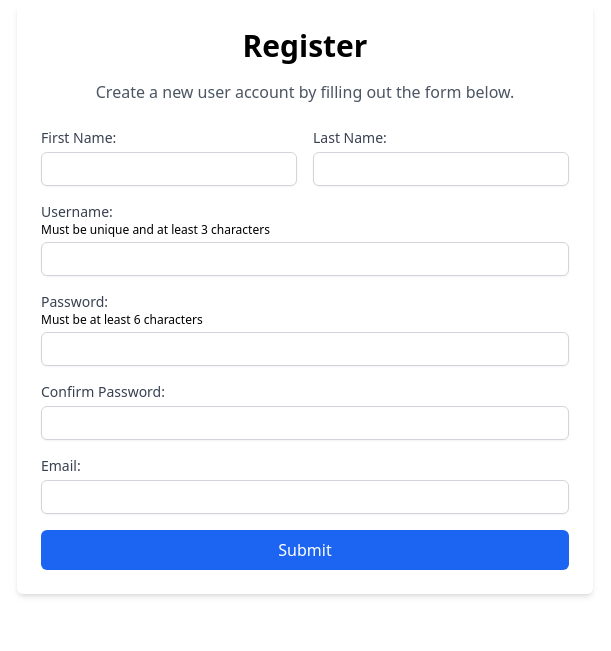
it: RegisterUserForm component › registers user when form is valid, resets form
The width and height of the screenshot is (611, 651).
Type "testUser" into the field labelled "Username:" at (305, 259), box [41, 242, 569, 276]
Type "testPwd1" into the password field labelled "Password:" at (305, 349), box [41, 332, 569, 366]
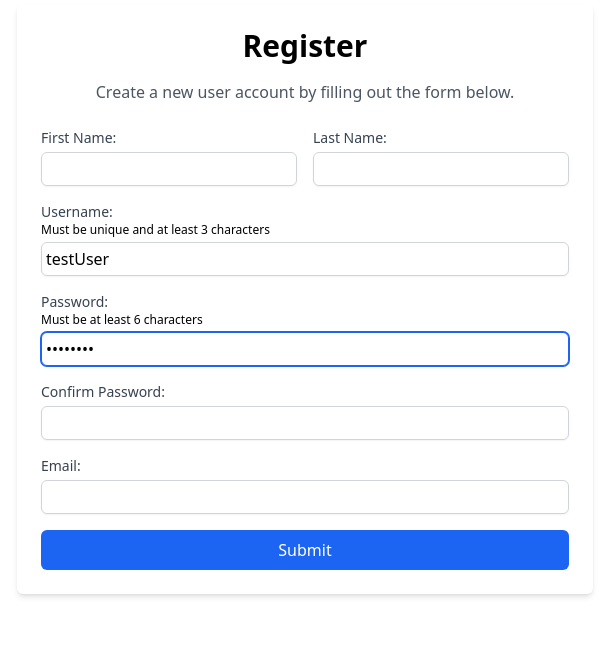
Type "testPwd1" into the password field labelled "Confirm Password:" at (305, 423), box [41, 406, 569, 440]
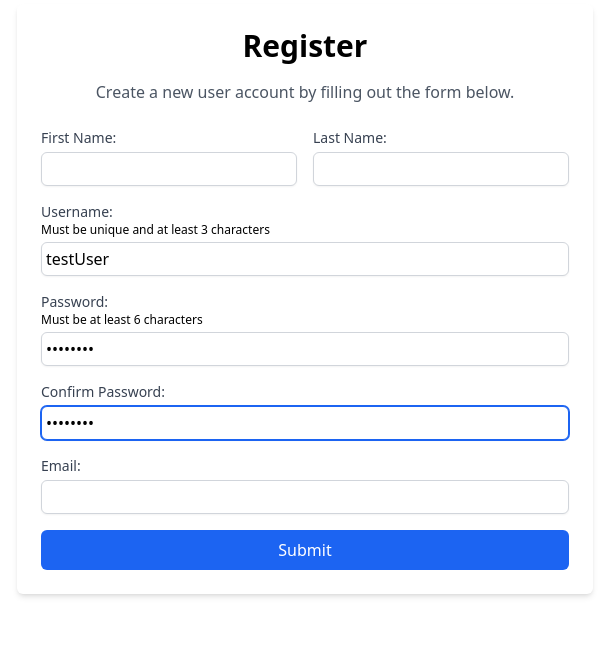
Type "jd@example.com" into the field labelled "Email:" at (305, 497), box [41, 480, 569, 514]
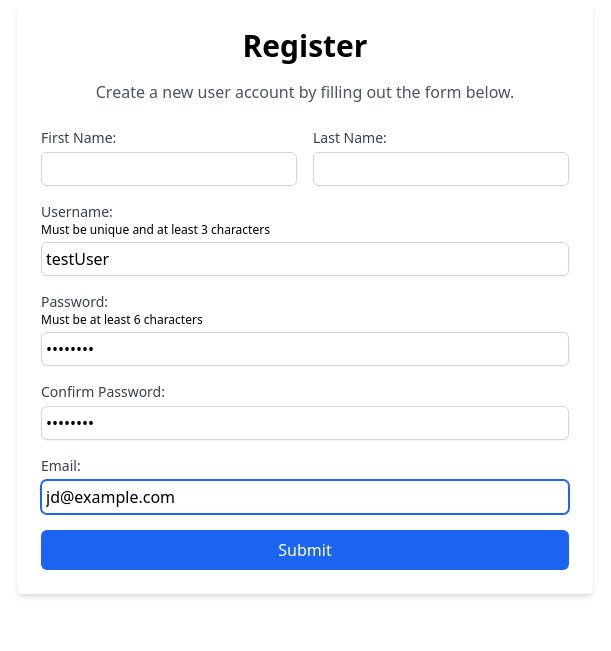
Type "John" into the field labelled "First Name:" at (169, 169), box [41, 152, 297, 186]
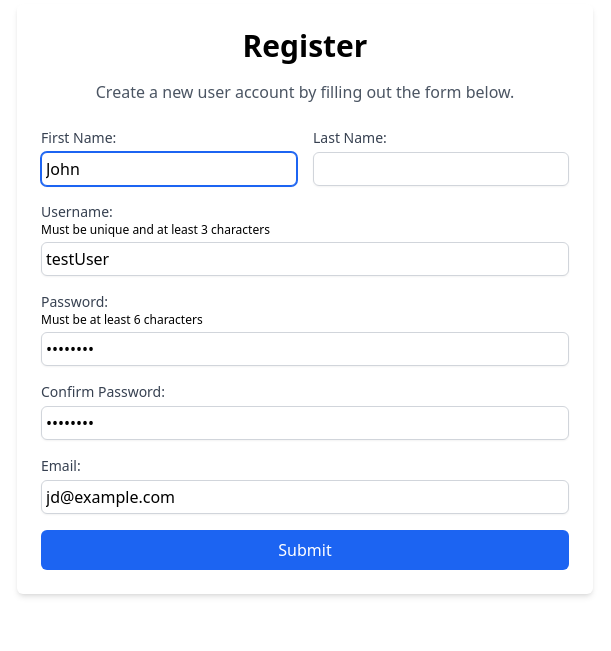
Type "Doe" into the field labelled "Last Name:" at (441, 169), box [313, 152, 569, 186]
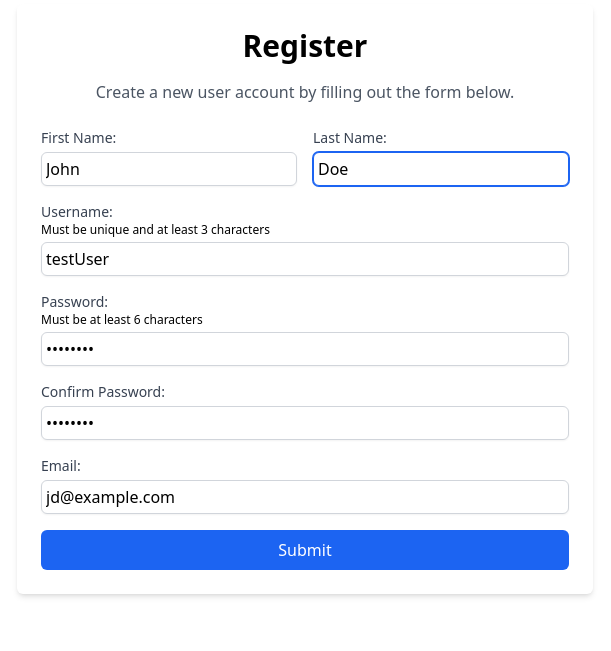
Click the button "Submit" at (305, 550), box [41, 530, 569, 570]
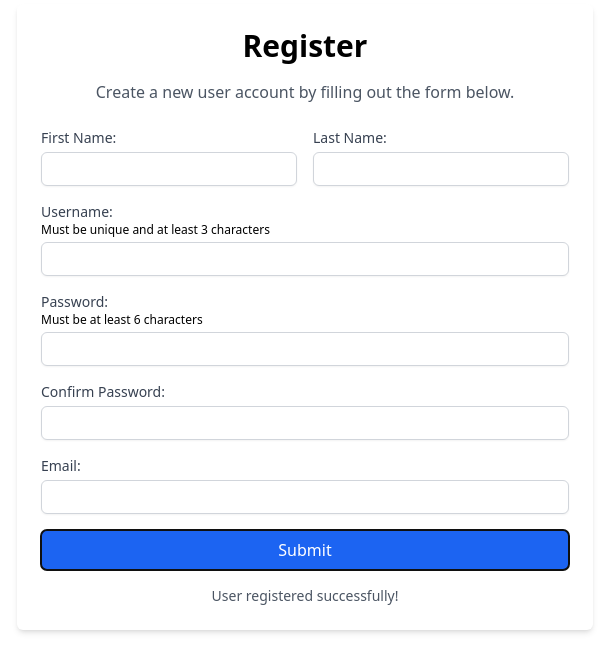
Expected: the text "User registered successfully!" is shown, [212, 586, 398, 605]
